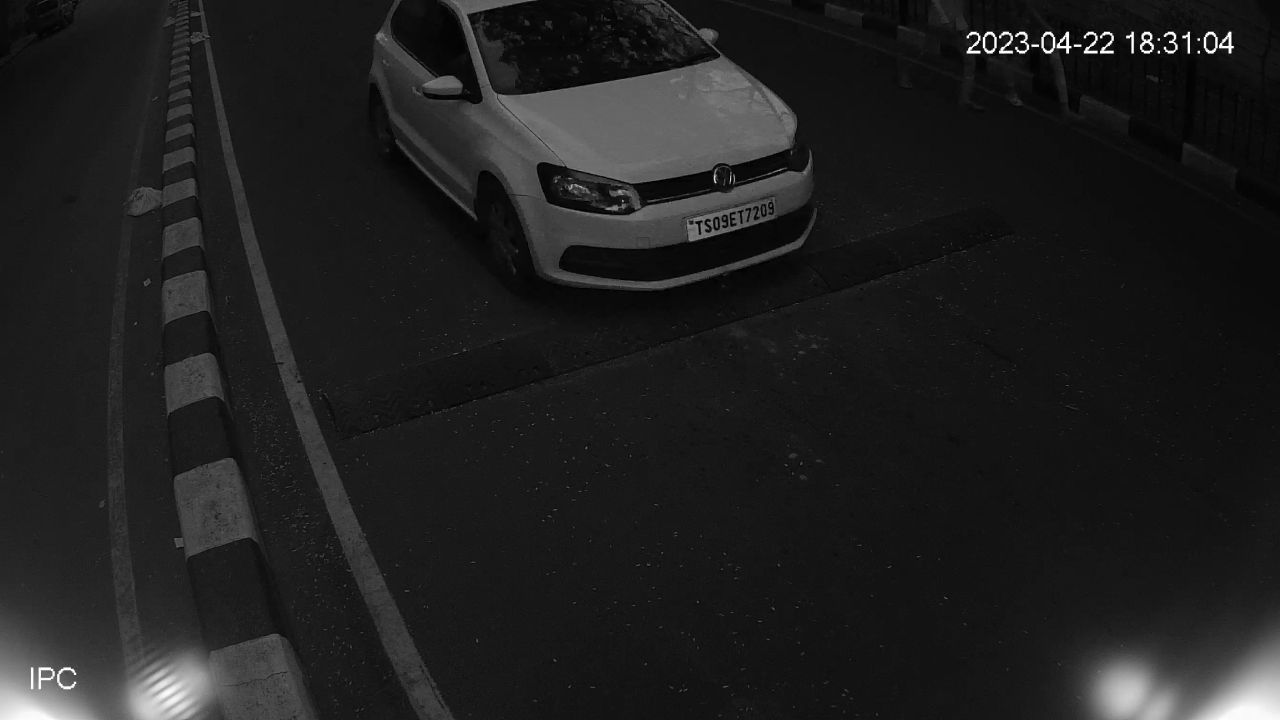license_plate: (686, 190, 783, 247)
